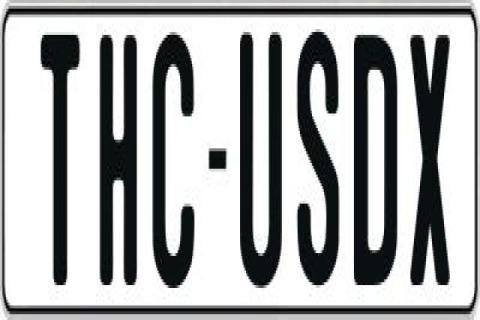C: (150, 35, 192, 297)
D: (352, 32, 398, 285)
H: (96, 26, 136, 282)
S: (298, 27, 340, 297)
T: (38, 27, 84, 286)
U: (237, 27, 280, 286)
X: (408, 26, 451, 282)
